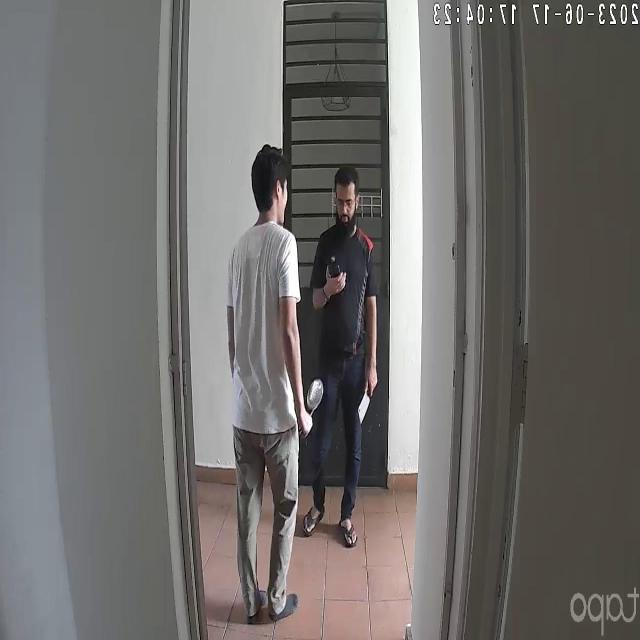Knife: (350, 378, 382, 430)
